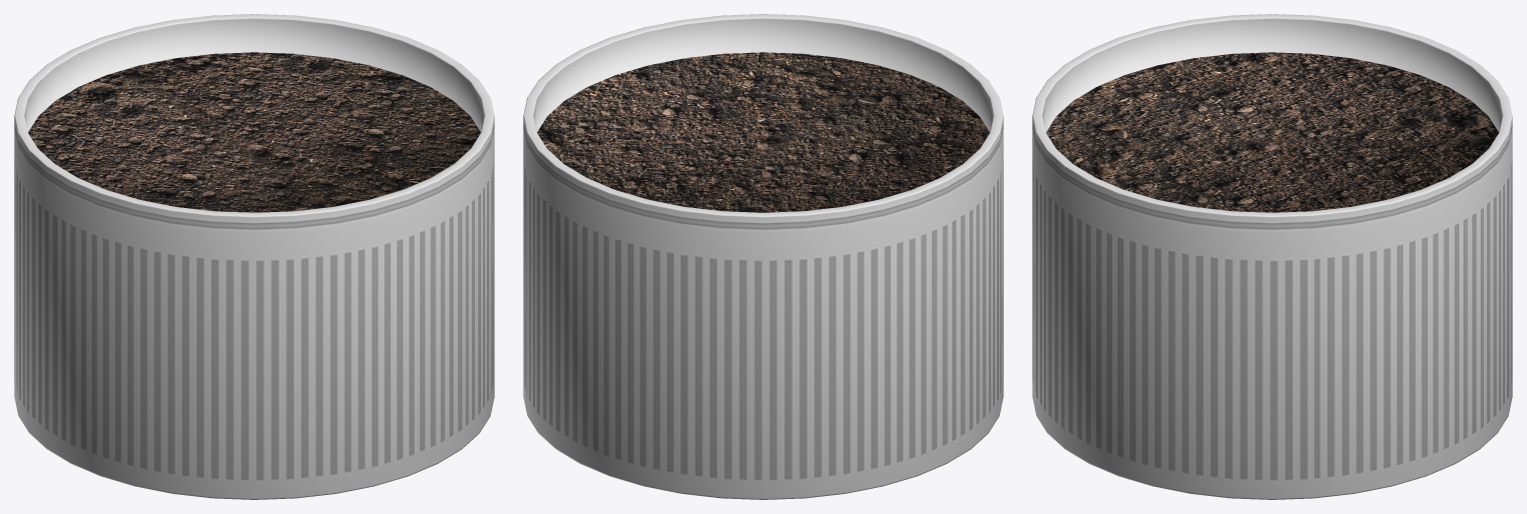
Rendered from plant pot2a.FBX.
3 renders of one model, left to right at view 1: azimuth 30°, elevation 25°; view 2: azimuth 150°, elevation 25°; view 3: azimuth 270°, elevation 25°, orthographic.
Parts seen in each view (by area): view 1: plant pot2a; view 2: plant pot2a; view 3: plant pot2a.
Boxes of the visible parts, x1,y1,x2,y2 form: plant pot2a: (14, 14, 494, 499); plant pot2a: (523, 14, 1003, 499); plant pot2a: (1032, 14, 1512, 499).
Size of the model in its own units: 13.79 by 13.79 by 9.
Materials: 1 (1 with a texture image).
